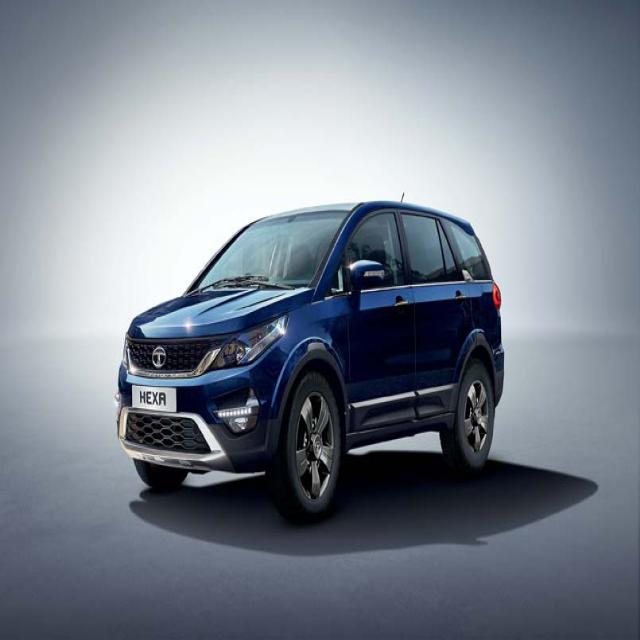Car: (103, 190, 525, 508)
